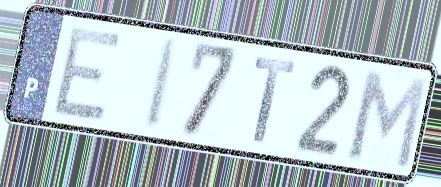2: (291, 62, 357, 160)
7: (180, 38, 243, 142)
E: (48, 24, 126, 123)
I: (141, 35, 183, 135)
M: (345, 66, 431, 173)
T: (251, 54, 298, 147)
